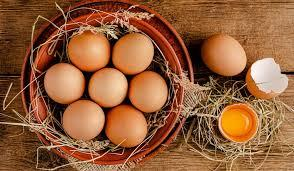egg: (67, 24, 112, 72), (108, 32, 156, 74), (88, 67, 130, 113), (106, 104, 148, 148), (62, 100, 106, 140), (131, 72, 171, 112), (46, 61, 81, 99)
